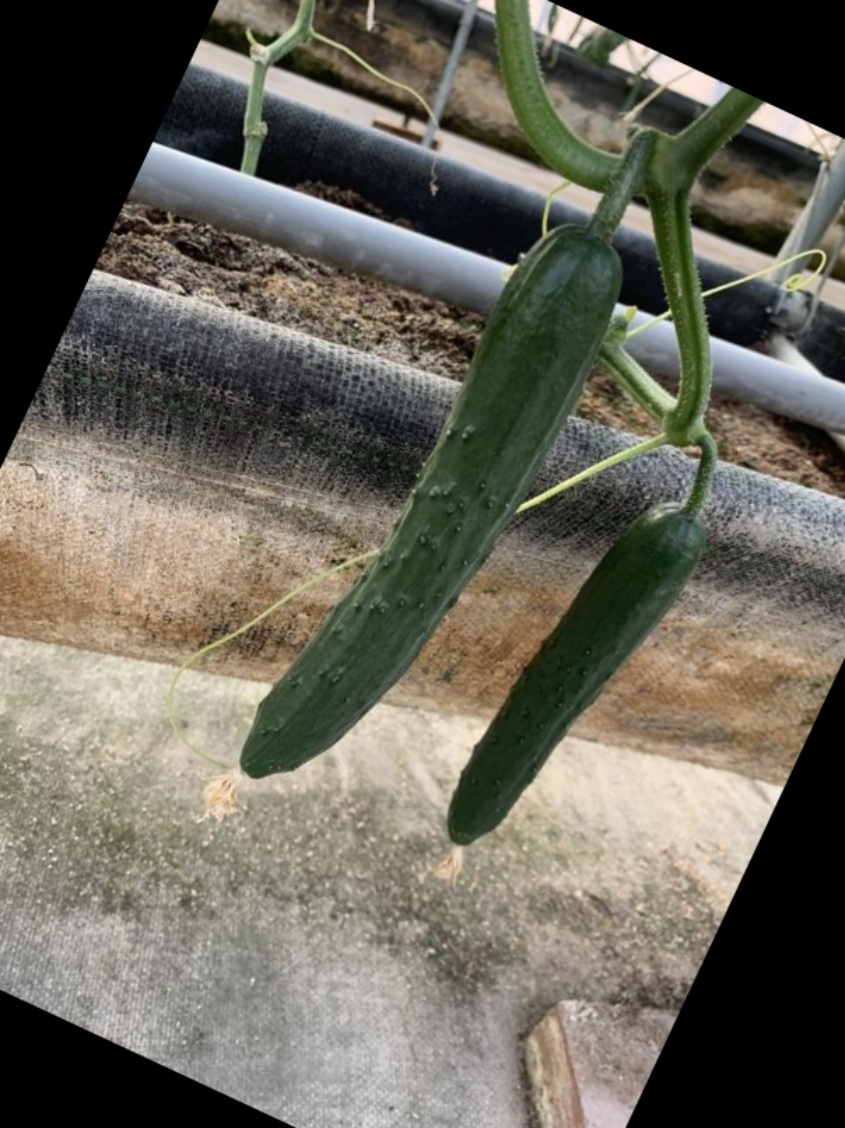mature: (437, 497, 698, 848)
